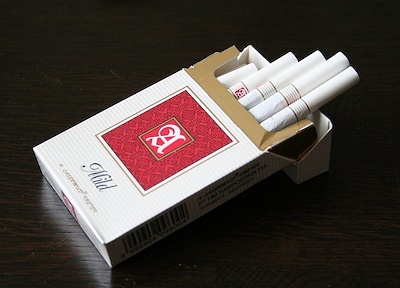A Mild: (32, 58, 241, 255)
